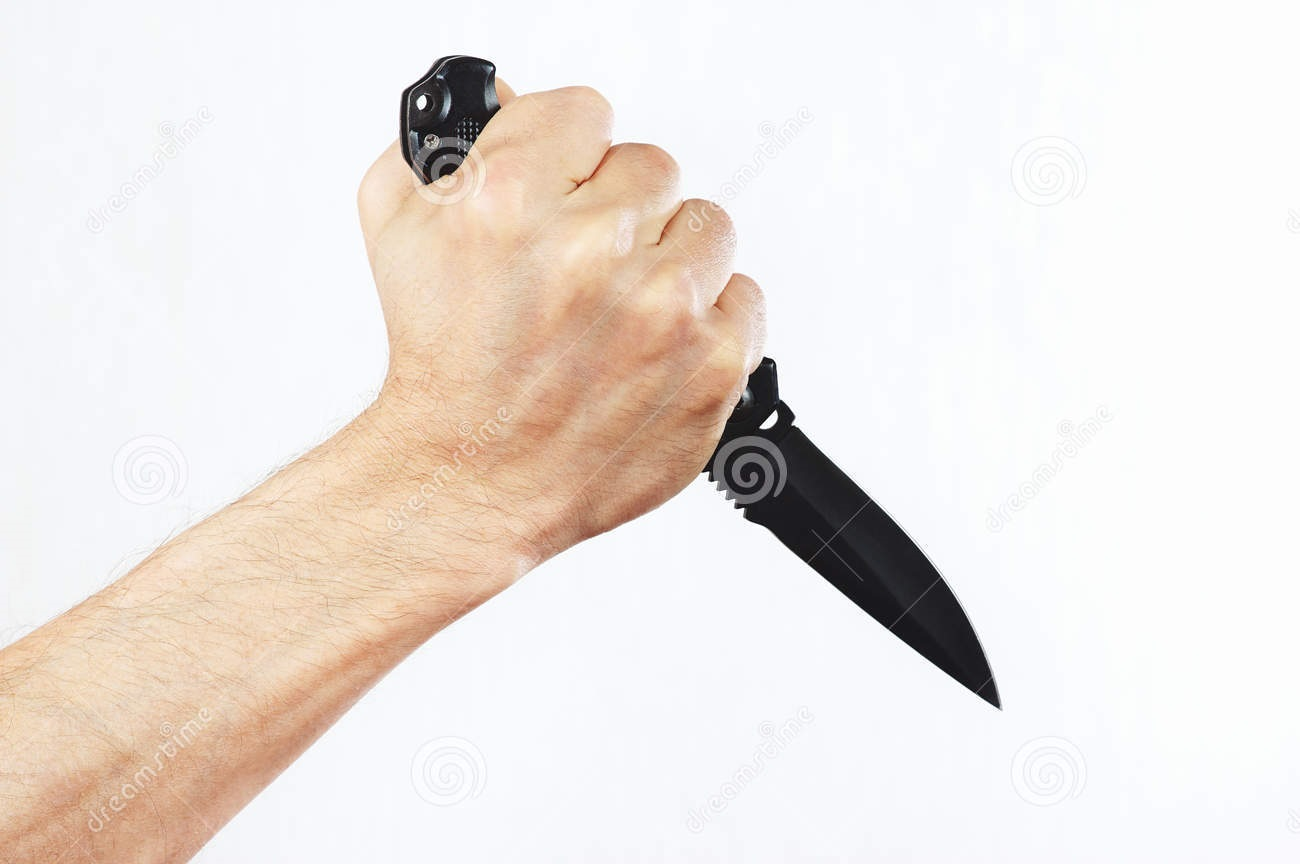knife: (549, 128, 1023, 722)
